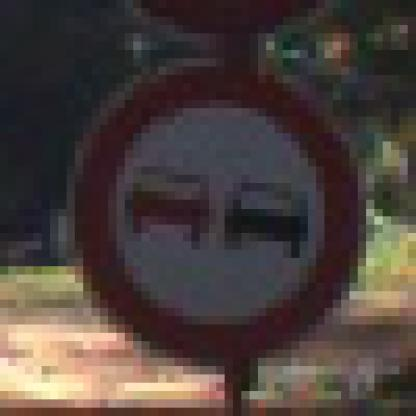No Overtaking: (51, 51, 375, 375)
